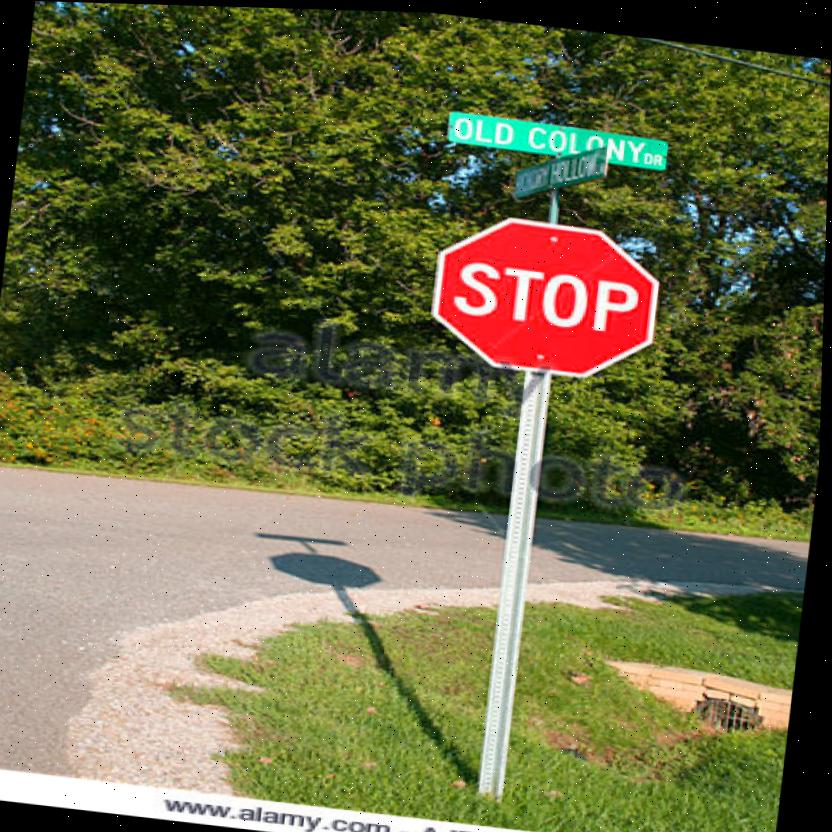Pole: (475, 377, 552, 799)
Sign: (424, 206, 670, 383)
